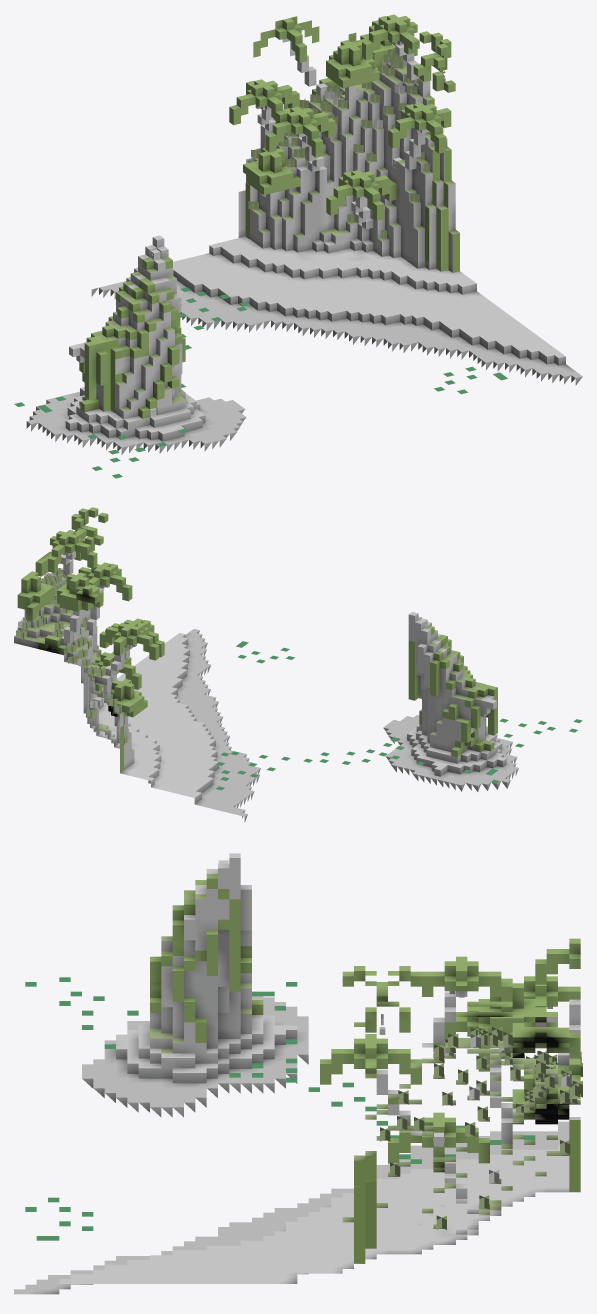
3 views of the same model, one above another, from view 1: azimuth 30°, elevation 25°; view 2: azimuth 150°, elevation 25°; view 3: azimuth 270°, elevation 25° (orthographic). The views are drawn at different scales.
Visible parts, largest first — view 1: opaco, recorte; view 2: opaco, recorte; view 3: opaco, recorte.
Part boxes in pixels (x1,y1,x2,y2): opaco: [26, 38, 582, 454]; recorte: [14, 14, 507, 478]; opaco: [24, 551, 518, 822]; recorte: [14, 507, 582, 790]; opaco: [14, 853, 580, 1294]; recorte: [25, 860, 582, 1263].
Size of the model in its own units: 64.2 by 32 by 50.2.
